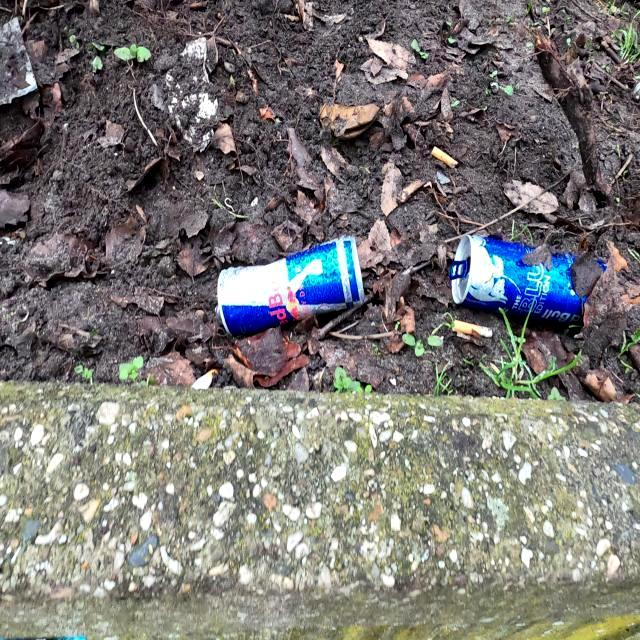Metal: (214, 234, 366, 336), (448, 233, 606, 325)
